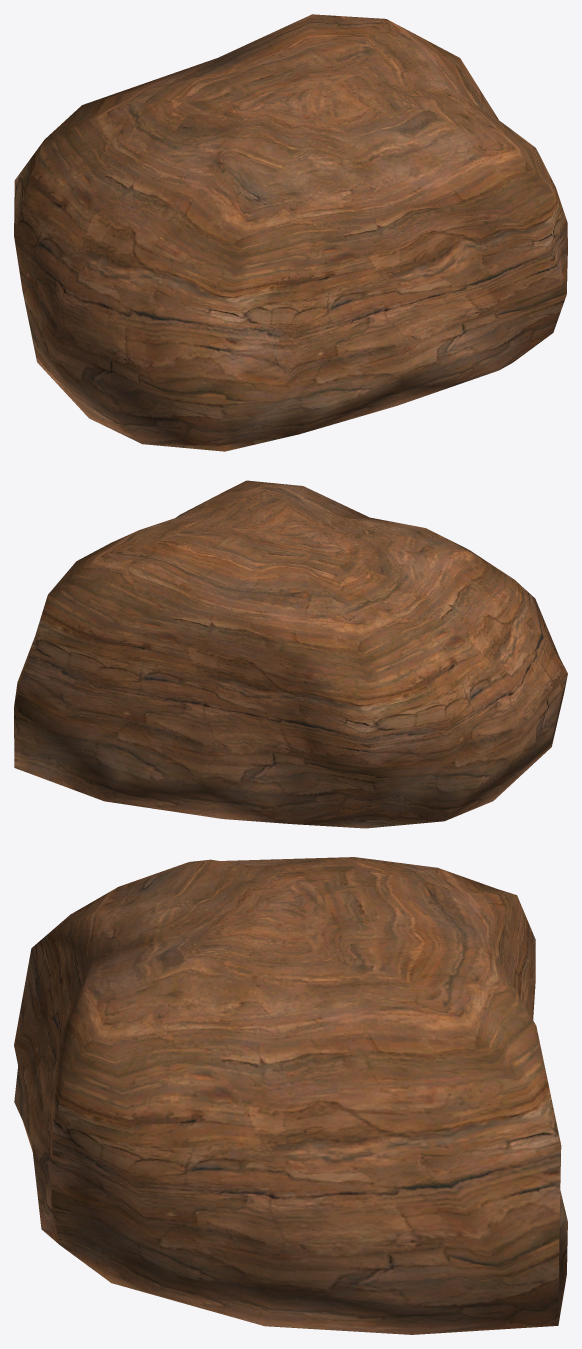
File: rock_tatt_jundland_boulder_a2_l0.fbx
The picture shows the model from 3 angles, top to bottom: view 1: azimuth 30°, elevation 25°; view 2: azimuth 150°, elevation 25°; view 3: azimuth 270°, elevation 25°; orthographic projection. The views are drawn at different scales.
Parts seen in each view (by area): view 1: mesh_node; view 2: mesh_node; view 3: mesh_node.
Part boxes in pixels (<box>): mesh_node: <box>14,14,567,451</box>; mesh_node: <box>14,480,567,828</box>; mesh_node: <box>14,857,567,1334</box>.
Size of the model in its own units: 3.17 by 1.64 by 2.56.
